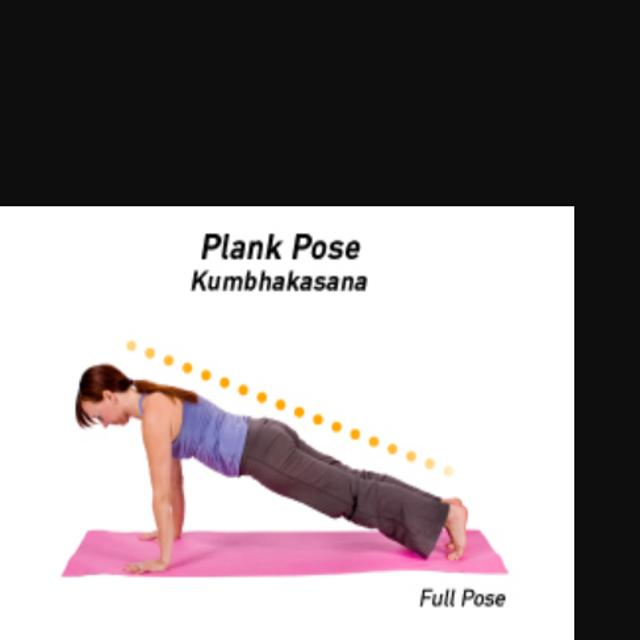Plank_Pose: (71, 361, 480, 583)
